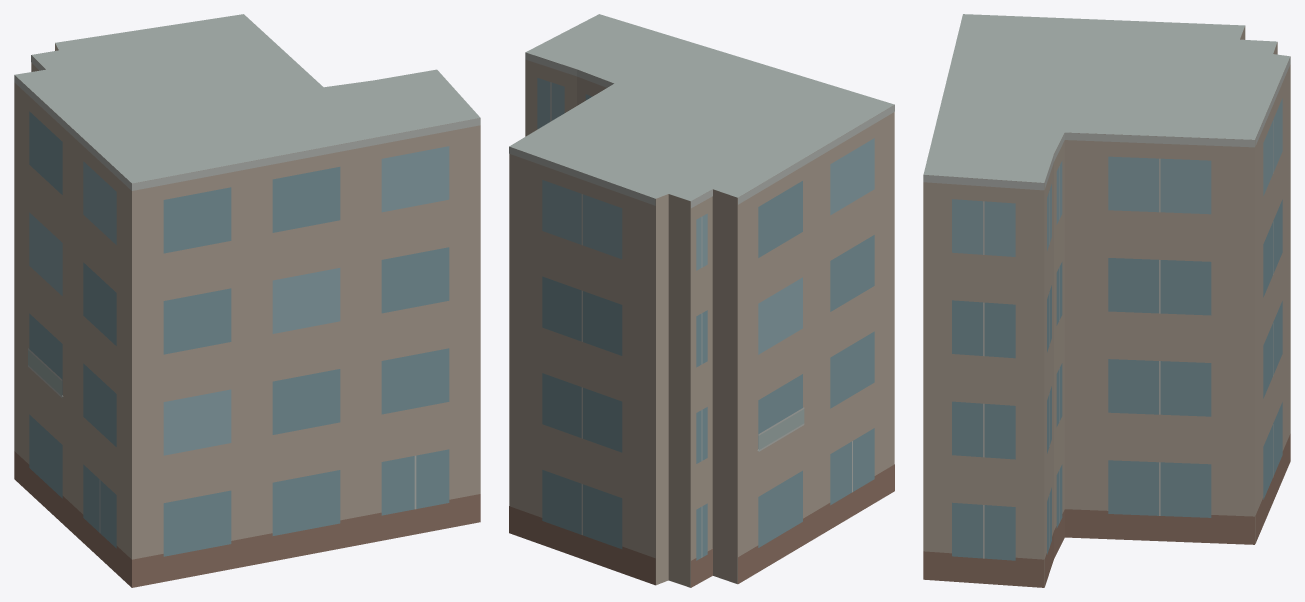
Rendered from survey-upis-32990556.glb.
The picture shows the model from 3 angles, left to right: view 1: azimuth 30°, elevation 25°; view 2: azimuth 150°, elevation 25°; view 3: azimuth 270°, elevation 25°; orthographic projection. The views are drawn at different scales.
Parts seen in each view (by area): view 1: survey-upis-32990556.tmp; view 2: survey-upis-32990556.tmp; view 3: survey-upis-32990556.tmp.
Part boxes in pixels (x1=…): survey-upis-32990556.tmp: x1=14, y1=14, x2=480, y2=587; survey-upis-32990556.tmp: x1=509, y1=14, x2=894, y2=587; survey-upis-32990556.tmp: x1=923, y1=14, x2=1290, y2=587.
Bounding box in the file's own units: 11.82 × 13.19 × 10.85.
